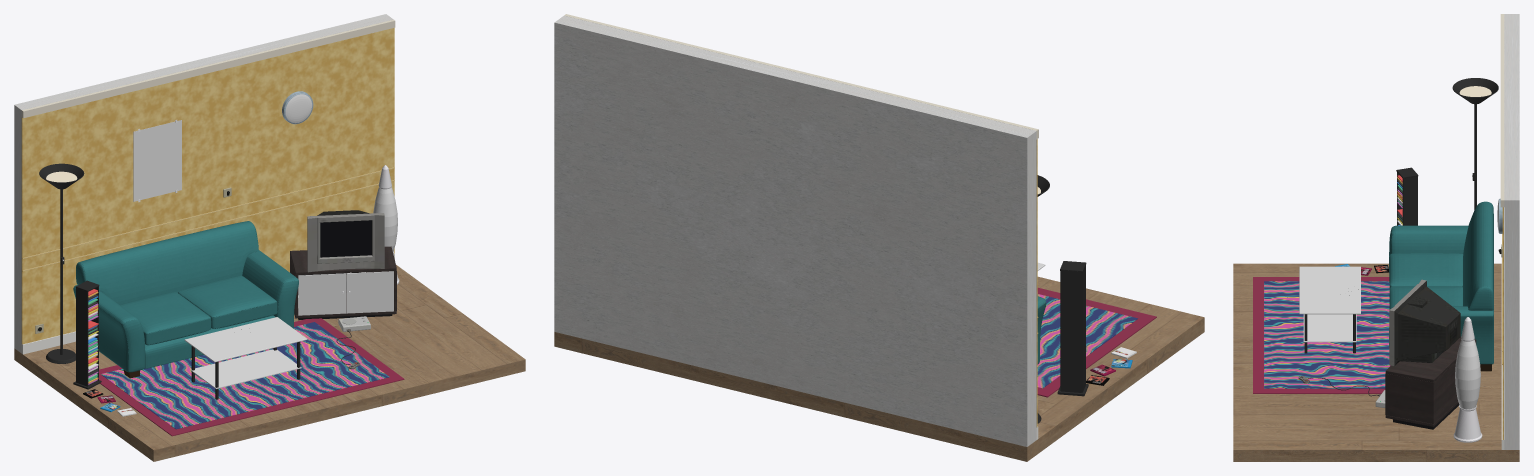
Rendered from kamer90.glb.
3 renders of one model, left to right at view 1: azimuth 30°, elevation 25°; view 2: azimuth 150°, elevation 25°; view 3: azimuth 270°, elevation 25°, orthographic. The views are drawn at different scales.
Parts seen in each view (by area): view 1: d90_paneel, d90_vloer, d90_bank_model, d90_tapijt, d90_muur, d90_tv_trinitron_mesh, d90_poster_glas, d90_kroonlijst, d90_tapijt_rand, d90_salontafel_glasblad_glas, d90_salontafel_onderblad_glas, d90_tvmeubel_glasdeur_R_glas (+10 smaller); view 2: d90_muur, d90_vloer, d90_tapijt, d90_cd_toren_rug, d90_tapijt_rand, d90_kroonlijst; view 3: d90_vloer, d90_tapijt, d90_bank_model, d90_muur, d90_tv_trinitron_mesh, d90_salontafel_glasblad_glas, d90_tapijt_rand, d90_tvmeubel_zijkant_R, d90_lavalamp_glas, d90_salontafel_onderblad_glas, d90_tvmeubel_blad, d90_kroonlijst (+7 smaller).
Part boxes in pixels (x1,y1,x2,y2): d90_paneel: [21, 28, 394, 344]; d90_vloer: [14, 265, 525, 461]; d90_bank_model: [73, 221, 298, 378]; d90_tapijt: [101, 322, 389, 429]; d90_muur: [14, 14, 393, 353]; d90_tv_trinitron_mesh: [307, 210, 384, 272]; d90_poster_glas: [133, 120, 181, 201]; d90_kroonlijst: [21, 19, 395, 118]; d90_tapijt_rand: [99, 318, 404, 436]; d90_salontafel_glasblad_glas: [184, 317, 307, 362]; d90_salontafel_onderblad_glas: [190, 349, 301, 388]; d90_tvmeubel_glasdeur_R_glas: [346, 271, 393, 313]; d90_muur: [554, 15, 1036, 446]; d90_vloer: [554, 276, 1204, 461]; d90_tapijt: [1037, 294, 1137, 388]; d90_cd_toren_rug: [1061, 270, 1081, 392]; d90_tapijt_rand: [1037, 287, 1156, 397]; d90_kroonlijst: [564, 14, 1038, 139]; d90_vloer: [1233, 263, 1519, 461]; d90_tapijt: [1264, 281, 1390, 388]; d90_bank_model: [1389, 201, 1493, 371]; d90_muur: [1504, 14, 1519, 449]; d90_tv_trinitron_mesh: [1389, 279, 1460, 366]; d90_salontafel_glasblad_glas: [1299, 266, 1360, 314]; d90_tapijt_rand: [1253, 277, 1389, 393]; d90_tvmeubel_zijkant_R: [1385, 373, 1434, 423]; d90_lavalamp_glas: [1455, 339, 1480, 409]; d90_salontafel_onderblad_glas: [1303, 314, 1356, 342]; d90_tvmeubel_blad: [1385, 337, 1476, 382]; d90_kroonlijst: [1500, 14, 1504, 207].
Size of the model in its own units: 4 by 2.62 by 2.6.
Materials: 64 (62 with a texture image).
